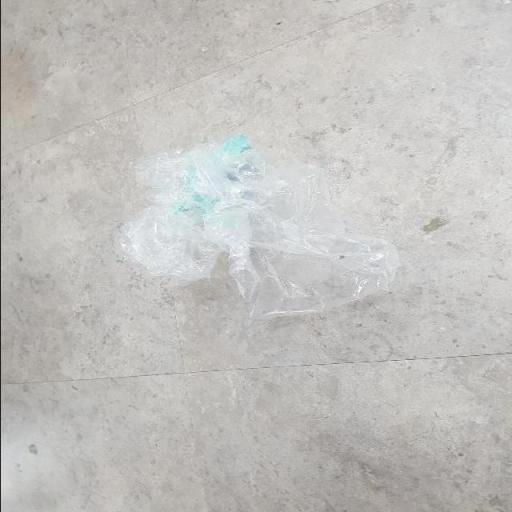plastic-bag: (114, 128, 410, 323)
